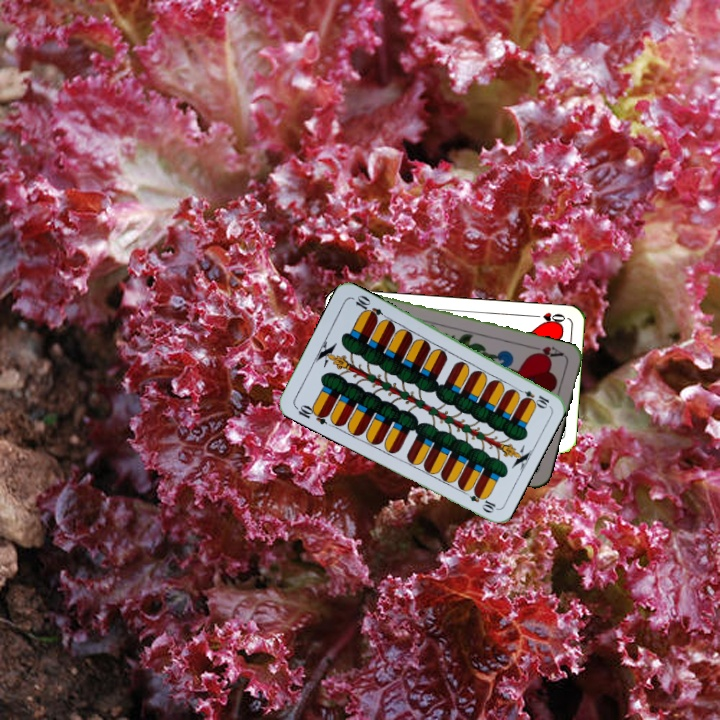E10: (291, 400, 331, 427), (512, 384, 552, 410)
HA: (527, 342, 567, 362)
HO: (528, 308, 568, 327)
